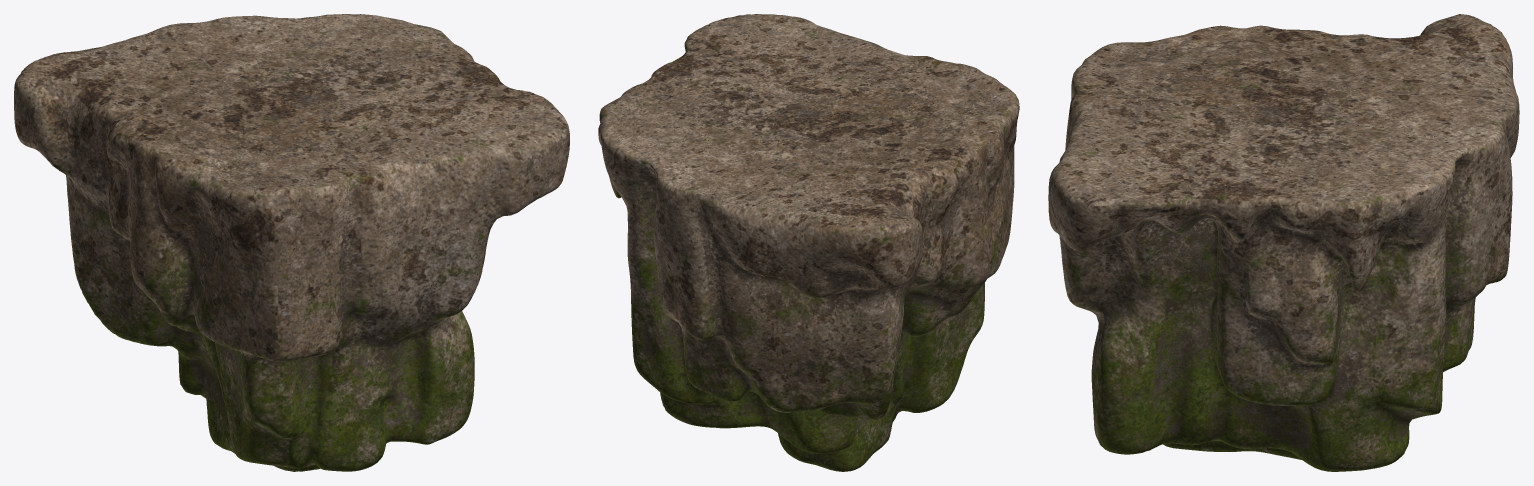
The model's file is rock.fbx.
3 views of the same model, side by side, from view 1: azimuth 30°, elevation 25°; view 2: azimuth 150°, elevation 25°; view 3: azimuth 270°, elevation 25° (orthographic). The views are drawn at different scales.
Parts seen in each view (by area): view 1: Mossy Rock; view 2: Mossy Rock; view 3: Mossy Rock.
Part boxes in pixels (x1,y1,x2,y2): Mossy Rock: (14, 14, 569, 471); Mossy Rock: (598, 14, 1019, 471); Mossy Rock: (1048, 14, 1519, 471).
Bounding box in the file's own units: 696 × 600 × 714.
1 material, 1 textured.
